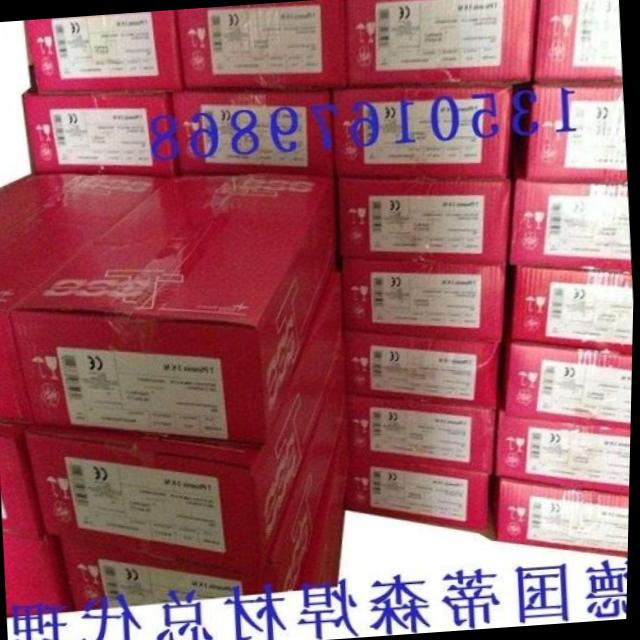box: (24, 254, 345, 570), (9, 173, 339, 444), (60, 349, 350, 611), (0, 172, 172, 423), (330, 84, 514, 179), (344, 0, 538, 86), (338, 174, 514, 265), (175, 0, 344, 91), (169, 88, 334, 176), (342, 255, 508, 341), (22, 86, 178, 177), (25, 9, 184, 96), (509, 161, 633, 272), (494, 397, 632, 495), (500, 332, 634, 429), (343, 328, 503, 409), (491, 474, 631, 556), (348, 395, 499, 471), (347, 453, 493, 530), (521, 81, 628, 184), (508, 266, 635, 352), (293, 403, 350, 591), (534, 0, 623, 82), (5, 533, 74, 616), (0, 422, 46, 539)
